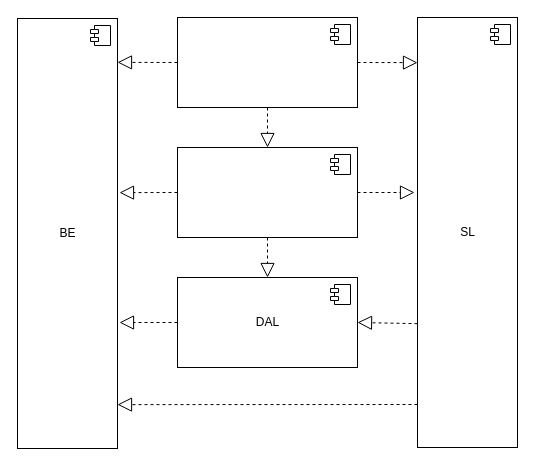
The diagram is 535 pixels wide and 466 high, and some of its shapes have lost their labels. Each missing label, with the box of its shape:
BLL: (176, 146, 358, 238)
GUI: (176, 16, 358, 108)
